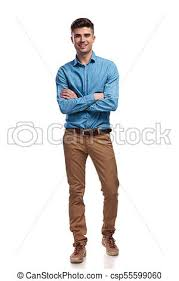standing: (43, 14, 135, 268)
